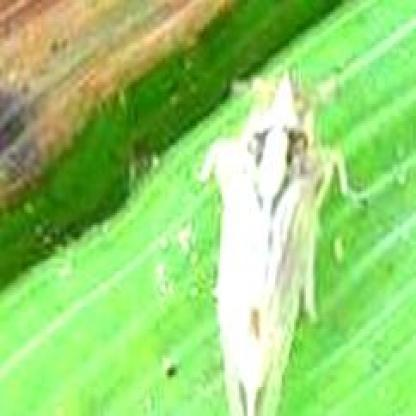brown-planthopper: (202, 65, 328, 416)
